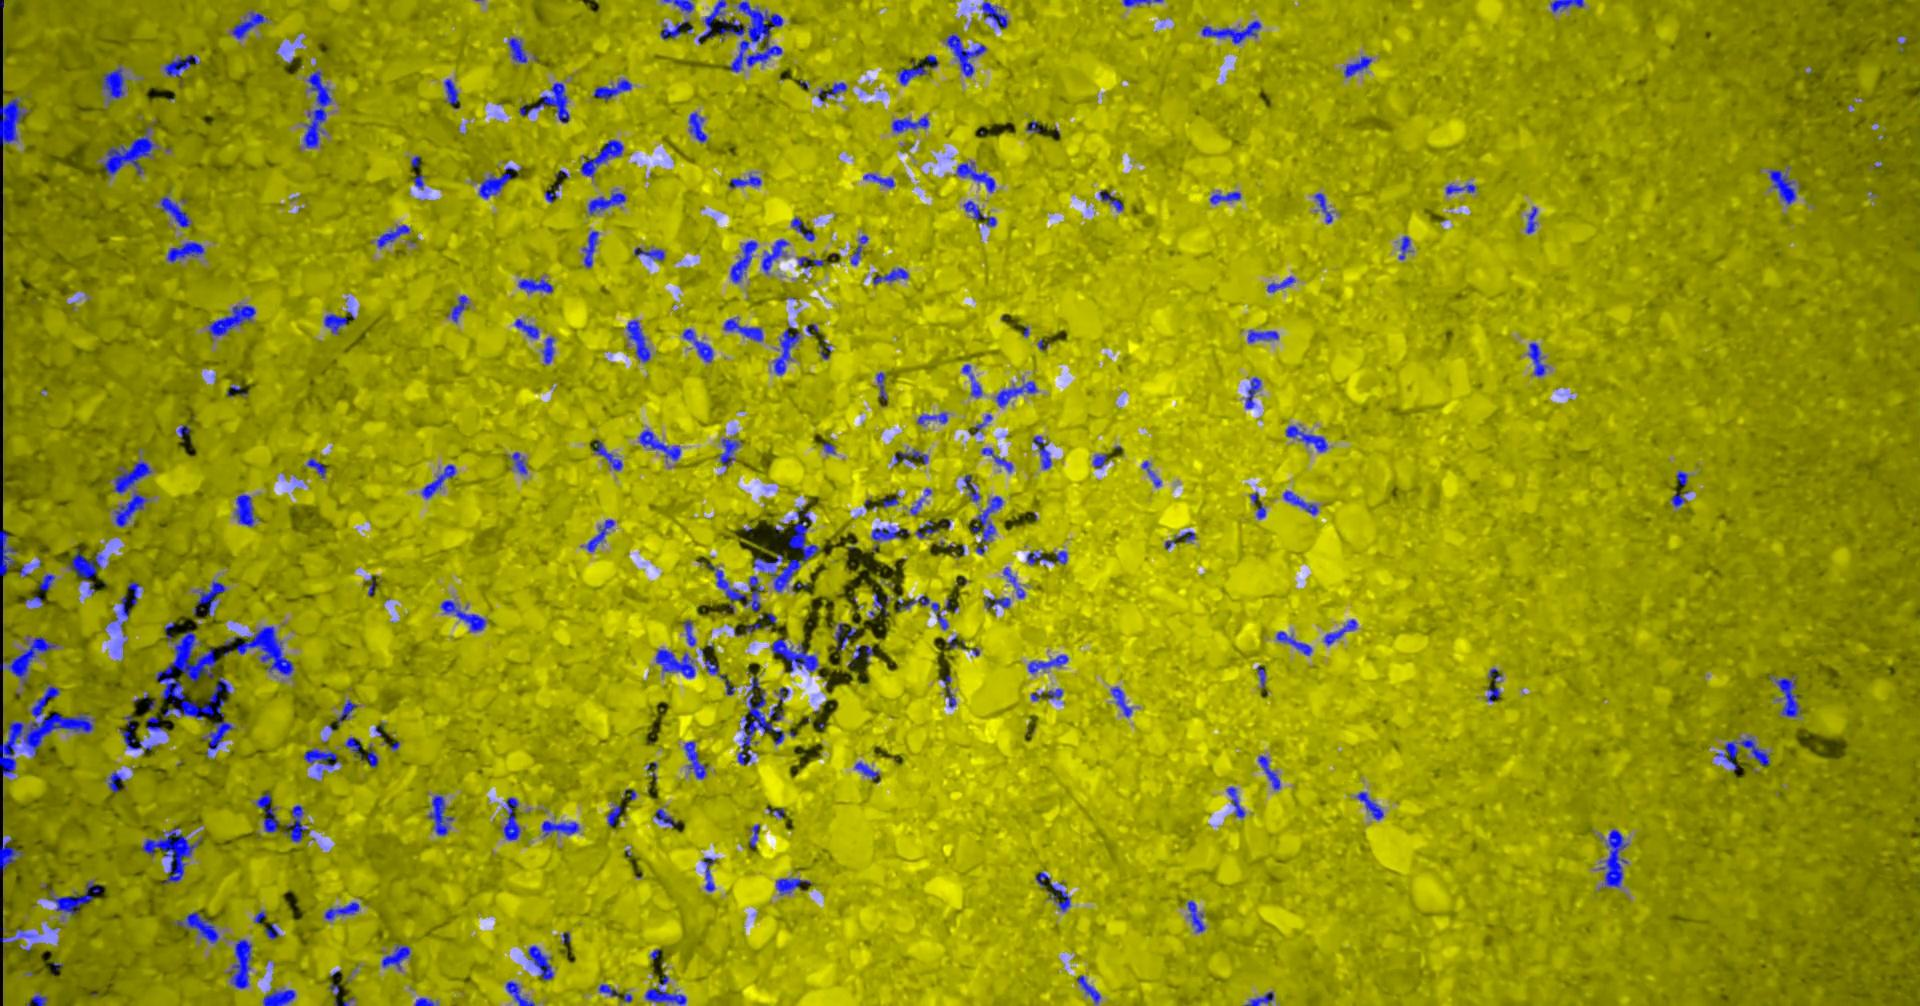ant: (737, 676, 783, 763), (102, 126, 156, 175), (707, 563, 763, 610), (8, 635, 56, 683), (303, 70, 331, 149), (518, 83, 569, 122), (1716, 735, 1769, 771), (47, 880, 99, 916), (971, 495, 1002, 554), (897, 594, 947, 629), (945, 34, 985, 76), (580, 138, 623, 177), (1599, 829, 1627, 887), (771, 638, 817, 671), (439, 600, 485, 631), (208, 305, 255, 335), (1035, 871, 1069, 911), (1201, 20, 1260, 43), (477, 166, 519, 198), (177, 911, 218, 942), (0, 98, 27, 146), (639, 429, 681, 460), (897, 55, 937, 85), (121, 715, 152, 753), (697, 0, 725, 43), (655, 648, 695, 678), (113, 492, 147, 526), (114, 460, 150, 493), (729, 240, 757, 282), (773, 328, 799, 373), (422, 464, 455, 498), (1774, 674, 1801, 716), (956, 161, 994, 191), (69, 549, 103, 580), (230, 939, 251, 988), (1285, 426, 1327, 451), (427, 795, 453, 835), (193, 580, 225, 614), (626, 319, 650, 362), (118, 580, 140, 629), (996, 381, 1036, 406), (871, 526, 909, 553), (682, 328, 712, 361), (344, 737, 377, 767), (1768, 169, 1796, 205), (761, 239, 789, 274), (160, 196, 190, 227), (590, 439, 622, 470), (255, 793, 279, 832), (585, 520, 615, 551), (231, 11, 265, 38), (527, 945, 552, 981), (723, 318, 762, 340), (283, 804, 307, 841), (963, 199, 996, 226), (1323, 619, 1356, 645), (593, 77, 631, 100), (1283, 490, 1318, 514), (1276, 631, 1310, 655), (303, 748, 338, 772), (587, 192, 625, 213), (683, 741, 705, 779), (644, 986, 686, 1005), (376, 224, 409, 248), (163, 55, 199, 76), (0, 837, 22, 874), (0, 528, 17, 575), (166, 241, 204, 262), (1027, 654, 1068, 673), (503, 796, 521, 840), (1356, 791, 1383, 819), (1257, 754, 1279, 789), (982, 447, 1012, 471), (323, 310, 354, 333), (982, 0, 1007, 28), (381, 945, 410, 969), (1076, 976, 1100, 1005), (505, 981, 535, 1005), (102, 67, 123, 99), (1002, 567, 1023, 598), (961, 365, 982, 398), (1110, 686, 1131, 716), (1032, 434, 1051, 469), (324, 901, 358, 920), (1343, 55, 1371, 77), (719, 438, 742, 466), (1528, 342, 1545, 376), (891, 116, 928, 132), (582, 230, 598, 267), (1313, 192, 1332, 224), (850, 234, 869, 265), (235, 494, 254, 526), (872, 268, 908, 285), (775, 878, 810, 894), (1225, 786, 1244, 817), (834, 622, 856, 649), (447, 295, 467, 323), (337, 699, 357, 727), (817, 83, 846, 102), (790, 217, 814, 240), (1026, 550, 1065, 564), (688, 112, 706, 142), (1187, 901, 1204, 932), (1098, 189, 1123, 211), (541, 821, 578, 835), (660, 20, 687, 39), (1142, 460, 1161, 486), (894, 448, 927, 464), (262, 989, 295, 1005), (514, 318, 538, 338), (940, 674, 955, 706), (518, 278, 552, 292), (963, 474, 980, 500), (1244, 377, 1260, 408), (1487, 668, 1501, 701), (508, 37, 526, 62), (1266, 276, 1295, 291), (632, 246, 664, 260), (855, 761, 877, 780), (444, 77, 458, 108), (863, 173, 894, 187), (702, 857, 715, 890), (916, 520, 937, 539), (1243, 991, 1272, 1005), (729, 174, 759, 187), (1209, 191, 1239, 203), (655, 808, 677, 826), (1550, 0, 1583, 11), (662, 0, 693, 11), (306, 459, 325, 478), (1247, 330, 1277, 342), (917, 412, 947, 423), (543, 183, 561, 202), (797, 257, 825, 268), (1445, 183, 1476, 193), (510, 452, 526, 473), (107, 772, 122, 793), (606, 805, 621, 826), (541, 337, 552, 363), (683, 619, 695, 645), (719, 673, 733, 695), (37, 573, 55, 589), (984, 597, 1010, 608), (1398, 235, 1410, 259), (876, 372, 886, 399), (748, 824, 759, 847), (1526, 207, 1537, 232), (1123, 0, 1162, 6), (1670, 492, 1688, 506), (146, 716, 164, 730), (598, 983, 618, 995), (703, 659, 717, 674), (819, 342, 830, 359), (1256, 666, 1265, 688), (1092, 453, 1106, 467), (264, 923, 278, 937), (1675, 470, 1688, 485), (1043, 688, 1062, 699), (27, 995, 46, 1005), (411, 174, 423, 189), (414, 997, 437, 1005)
